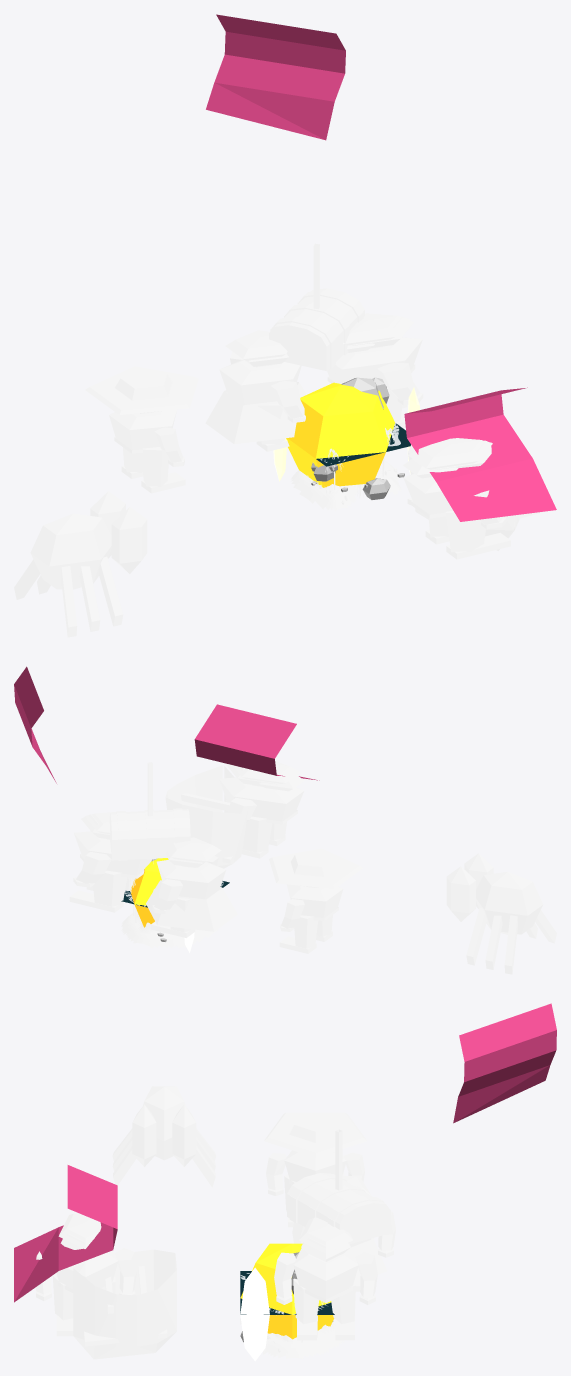
The model's file is ile-tresor-v5-leger.glb.
3 views of the same model, one above another, from view 1: azimuth 30°, elevation 25°; view 2: azimuth 150°, elevation 25°; view 3: azimuth 270°, elevation 25° (orthographic). The views are drawn at different scales.
Visible parts, largest first — view 1: ile_banniere0.013, ile_banniere1.011, ile_anime5.017, ile_lumieres.027, ile_anime4.021, ile_anime3.025, ile_anime2.027, ile_copie0.016, ile_anime0.027, ile_corps.027, ile_libre0.025; view 2: ile_anime5.017, ile_anime3.025, ile_anime4.021, ile_anime2.027, ile_banniere1.011, ile_anime1.027, ile_copie0.016, ile_anime0.027, ile_corps.027, ile_banniere0.013, ile_lumieres.027; view 3: ile_anime1.027, ile_copie0.016, ile_banniere0.013, ile_banniere1.011, ile_anime4.021, ile_anime5.017, ile_anime0.027, ile_anime2.027, ile_lumieres.027, ile_corps.027, ile_anime3.025, ile_libre0.025.
Boxes of the visible parts, <box> form: ile_banniere0.013: <box>206,14,345,140</box>; ile_banniere1.011: <box>404,387,556,521</box>; ile_anime5.017: <box>14,491,147,637</box>; ile_lumieres.027: <box>273,377,419,499</box>; ile_anime4.021: <box>85,366,198,493</box>; ile_anime3.025: <box>205,330,306,451</box>; ile_anime2.027: <box>403,438,510,559</box>; ile_copie0.016: <box>327,313,423,428</box>; ile_anime0.027: <box>269,243,364,370</box>; ile_corps.027: <box>291,373,401,511</box>; ile_libre0.025: <box>316,423,410,466</box>; ile_anime5.017: <box>446,853,556,974</box>; ile_anime3.025: <box>146,837,237,937</box>; ile_anime4.021: <box>269,848,362,953</box>; ile_anime2.027: <box>219,761,304,858</box>; ile_banniere1.011: <box>194,704,319,780</box>; ile_anime1.027: <box>165,765,248,868</box>; ile_copie0.016: <box>69,812,151,912</box>; ile_anime0.027: <box>109,762,190,860</box>; ile_corps.027: <box>121,859,218,948</box>; ile_banniere0.013: <box>14,666,56,783</box>; ile_lumieres.027: <box>130,858,194,952</box>; ile_anime1.027: <box>73,1249,176,1359</box>; ile_copie0.016: <box>274,1217,377,1340</box>; ile_banniere0.013: <box>453,1003,556,1123</box>; ile_banniere1.011: <box>14,1165,117,1302</box>; ile_anime4.021: <box>264,1112,366,1227</box>; ile_anime5.017: <box>112,1086,215,1187</box>; ile_anime0.027: <box>287,1129,390,1243</box>; ile_anime2.027: <box>35,1213,137,1336</box>; ile_lumieres.027: <box>240,1243,334,1361</box>; ile_corps.027: <box>240,1301,344,1358</box>; ile_anime3.025: <box>292,1176,395,1291</box>; ile_libre0.025: <box>240,1271,334,1314</box>.
Bounding box in the file's own units: 9.72 × 7.24 × 10.46.
